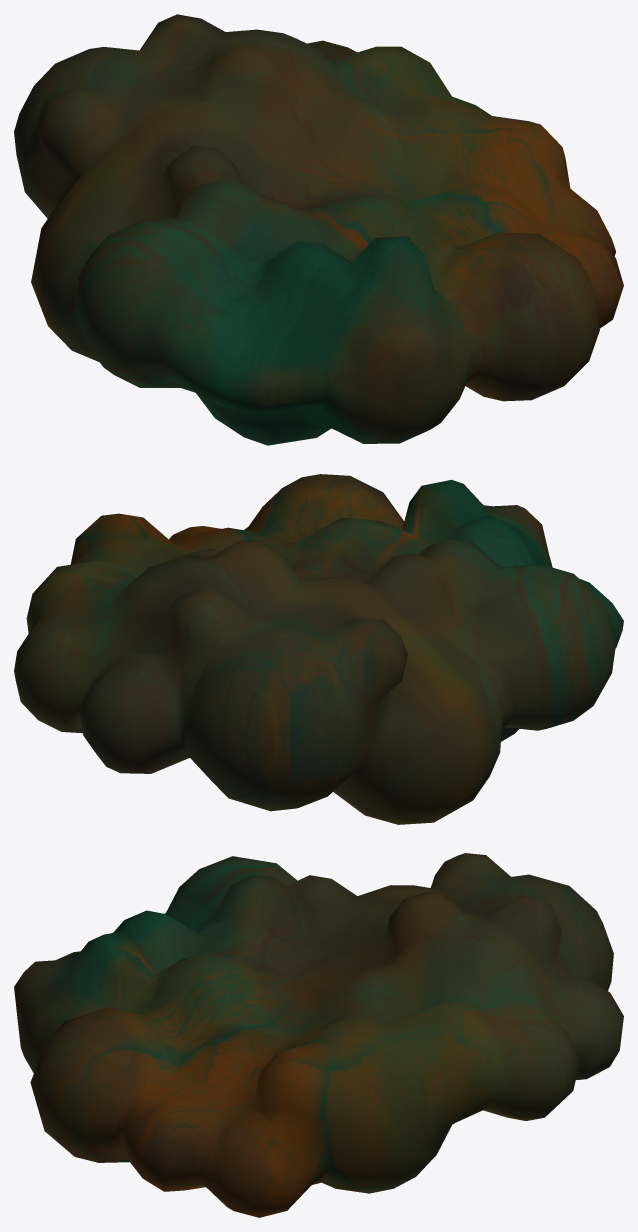
File: MalahitRock1.fbx
3 renders of one model, top to bottom at view 1: azimuth 30°, elevation 25°; view 2: azimuth 150°, elevation 25°; view 3: azimuth 270°, elevation 25°, orthographic. The views are drawn at different scales.
Parts seen in each view (by area): view 1: МСфера.060; view 2: МСфера.060; view 3: МСфера.060.
Part boxes in pixels (left/top/right/bottom): МСфера.060: left=14, top=14, right=623, bottom=445; МСфера.060: left=14, top=474, right=623, bottom=824; МСфера.060: left=14, top=853, right=623, bottom=1217.
Bounding box in the file's own units: 151 × 75.12 × 166.
1 material, 1 textured.
